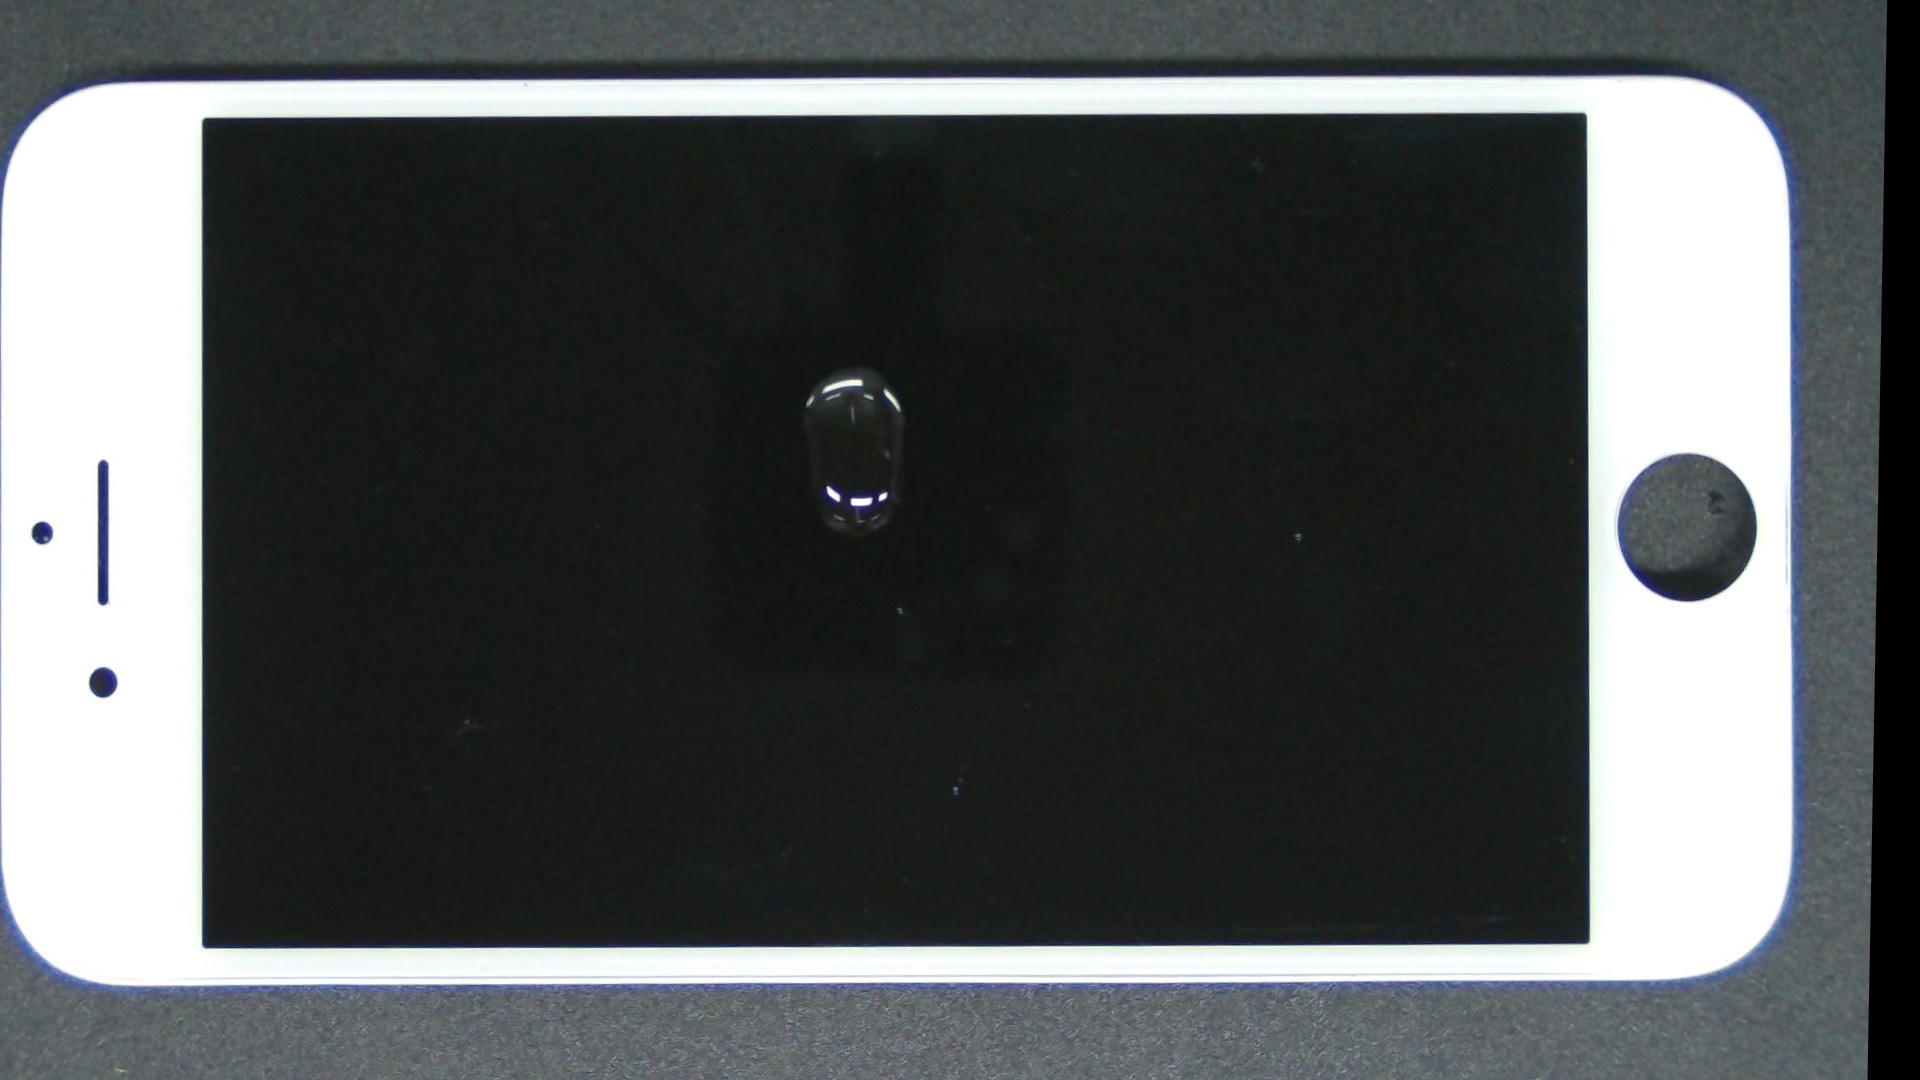oil: (352, 136, 1354, 597)
